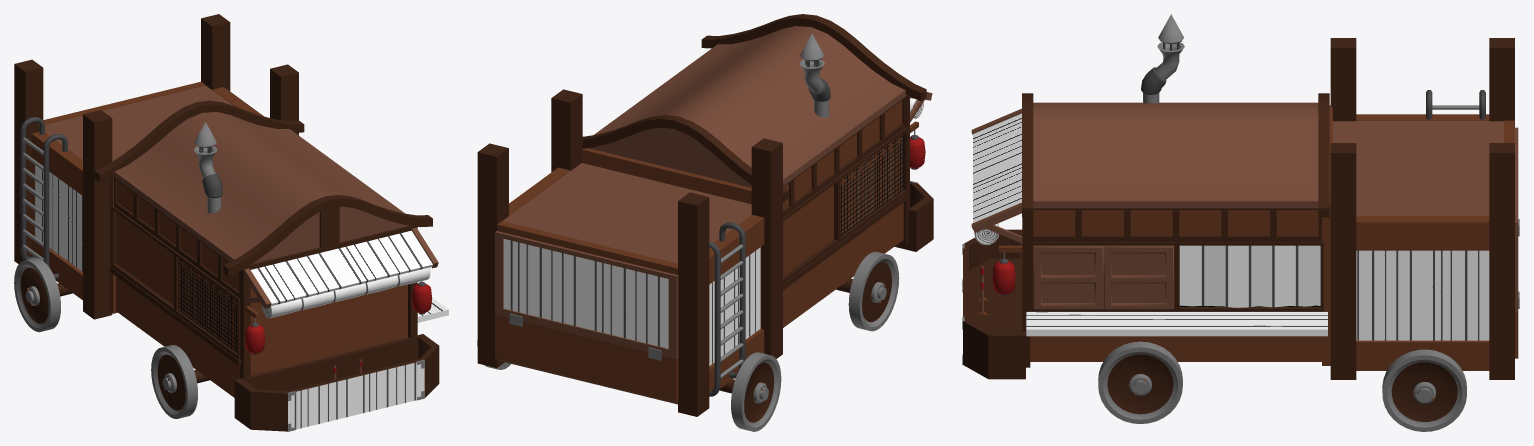
Rendered from Cart.glb.
3 renders of one model, left to right at view 1: azimuth 30°, elevation 25°; view 2: azimuth 150°, elevation 25°; view 3: azimuth 270°, elevation 25°, orthographic. The views are drawn at different scales.
Visible parts, largest first — view 1: Cart, Front_Right_Wheel, Rear_Right_Wheel; view 2: Cart, Rear_Door, Rear_Right_Wheel, Front_Right_Wheel; view 3: Cart, Rear_Left_Wheel, Front_Left_Wheel, Blinds Left, Blinds Right, Rear_Door.
Boxes of the visible parts, bbox=[...] form: Cart: bbox=[14, 14, 448, 431]; Front_Right_Wheel: bbox=[151, 345, 197, 418]; Rear_Right_Wheel: bbox=[14, 258, 60, 332]; Cart: bbox=[477, 14, 933, 416]; Rear_Door: bbox=[495, 231, 678, 358]; Rear_Right_Wheel: bbox=[731, 352, 781, 431]; Front_Right_Wheel: bbox=[848, 251, 899, 331]; Cart: bbox=[962, 14, 1519, 379]; Rear_Left_Wheel: bbox=[1382, 349, 1466, 431]; Front_Left_Wheel: bbox=[1098, 341, 1182, 423]; Blinds Left: bbox=[1179, 245, 1249, 307]; Blinds Right: bbox=[1250, 245, 1320, 307]; Rear_Door: bbox=[1514, 127, 1519, 311].
Size of the model in its own units: 2.7 by 2.77 by 4.44.
Materials: 11 (4 with a texture image).
